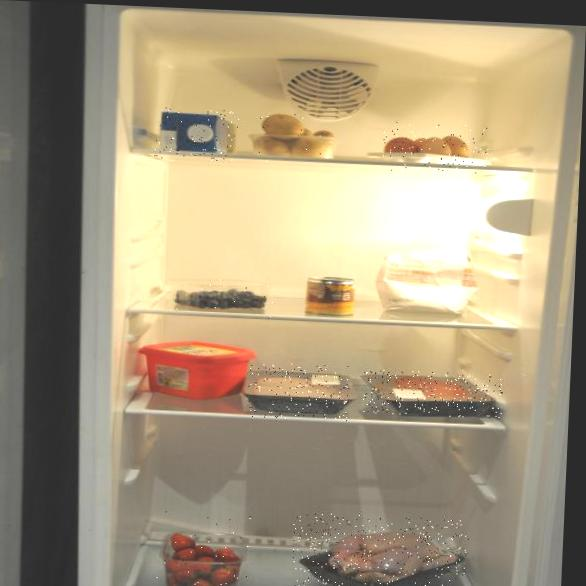chicken: (290, 512, 470, 586)
eggs: (381, 121, 490, 177)
meat: (362, 369, 503, 419), (247, 362, 350, 421)
milk: (154, 107, 244, 162), (251, 109, 337, 166)
olive: (175, 276, 275, 321)
tomatoes: (155, 509, 251, 586)
